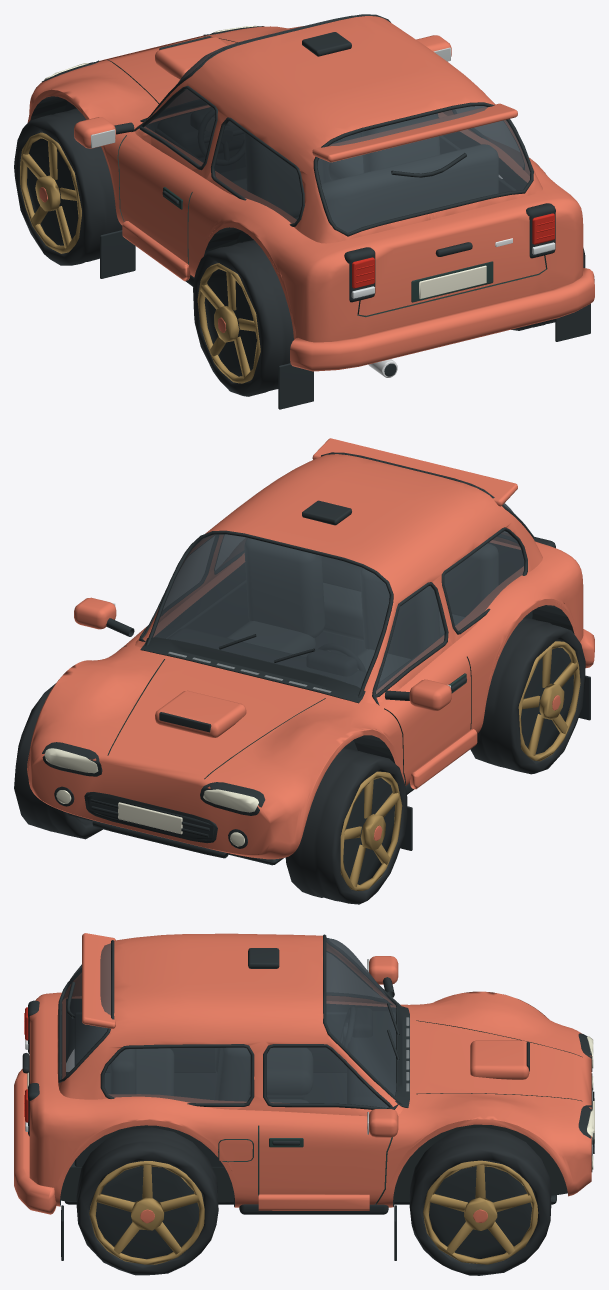
Rendered from kitsune_lod2.fbx.
3 renders of one model, top to bottom at view 1: azimuth 30°, elevation 25°; view 2: azimuth 150°, elevation 25°; view 3: azimuth 270°, elevation 25°, orthographic. The views are drawn at different scales.
Parts seen in each view (by area): view 1: Body, Wheel_RL_Mesh, Wheel_FL_Mesh; view 2: Body, Wheel_FL_Mesh, Wheel_RL_Mesh, Wheel_FR_Mesh; view 3: Body, Wheel_FR_Mesh, Wheel_RR_Mesh.
Boxes of the visible parts, x1,y1,x2,y2 form: Body: [27, 14, 594, 409]; Wheel_RL_Mesh: [193, 240, 293, 396]; Wheel_FL_Mesh: [14, 108, 122, 265]; Body: [27, 438, 594, 865]; Wheel_FL_Mesh: [285, 747, 407, 904]; Wheel_RL_Mesh: [470, 617, 585, 774]; Wheel_FR_Mesh: [14, 683, 102, 839]; Body: [14, 933, 594, 1260]; Wheel_FR_Mesh: [409, 1127, 551, 1275]; Wheel_RR_Mesh: [76, 1127, 218, 1275].
Bounding box in the file's own units: 229 × 159 × 335.
